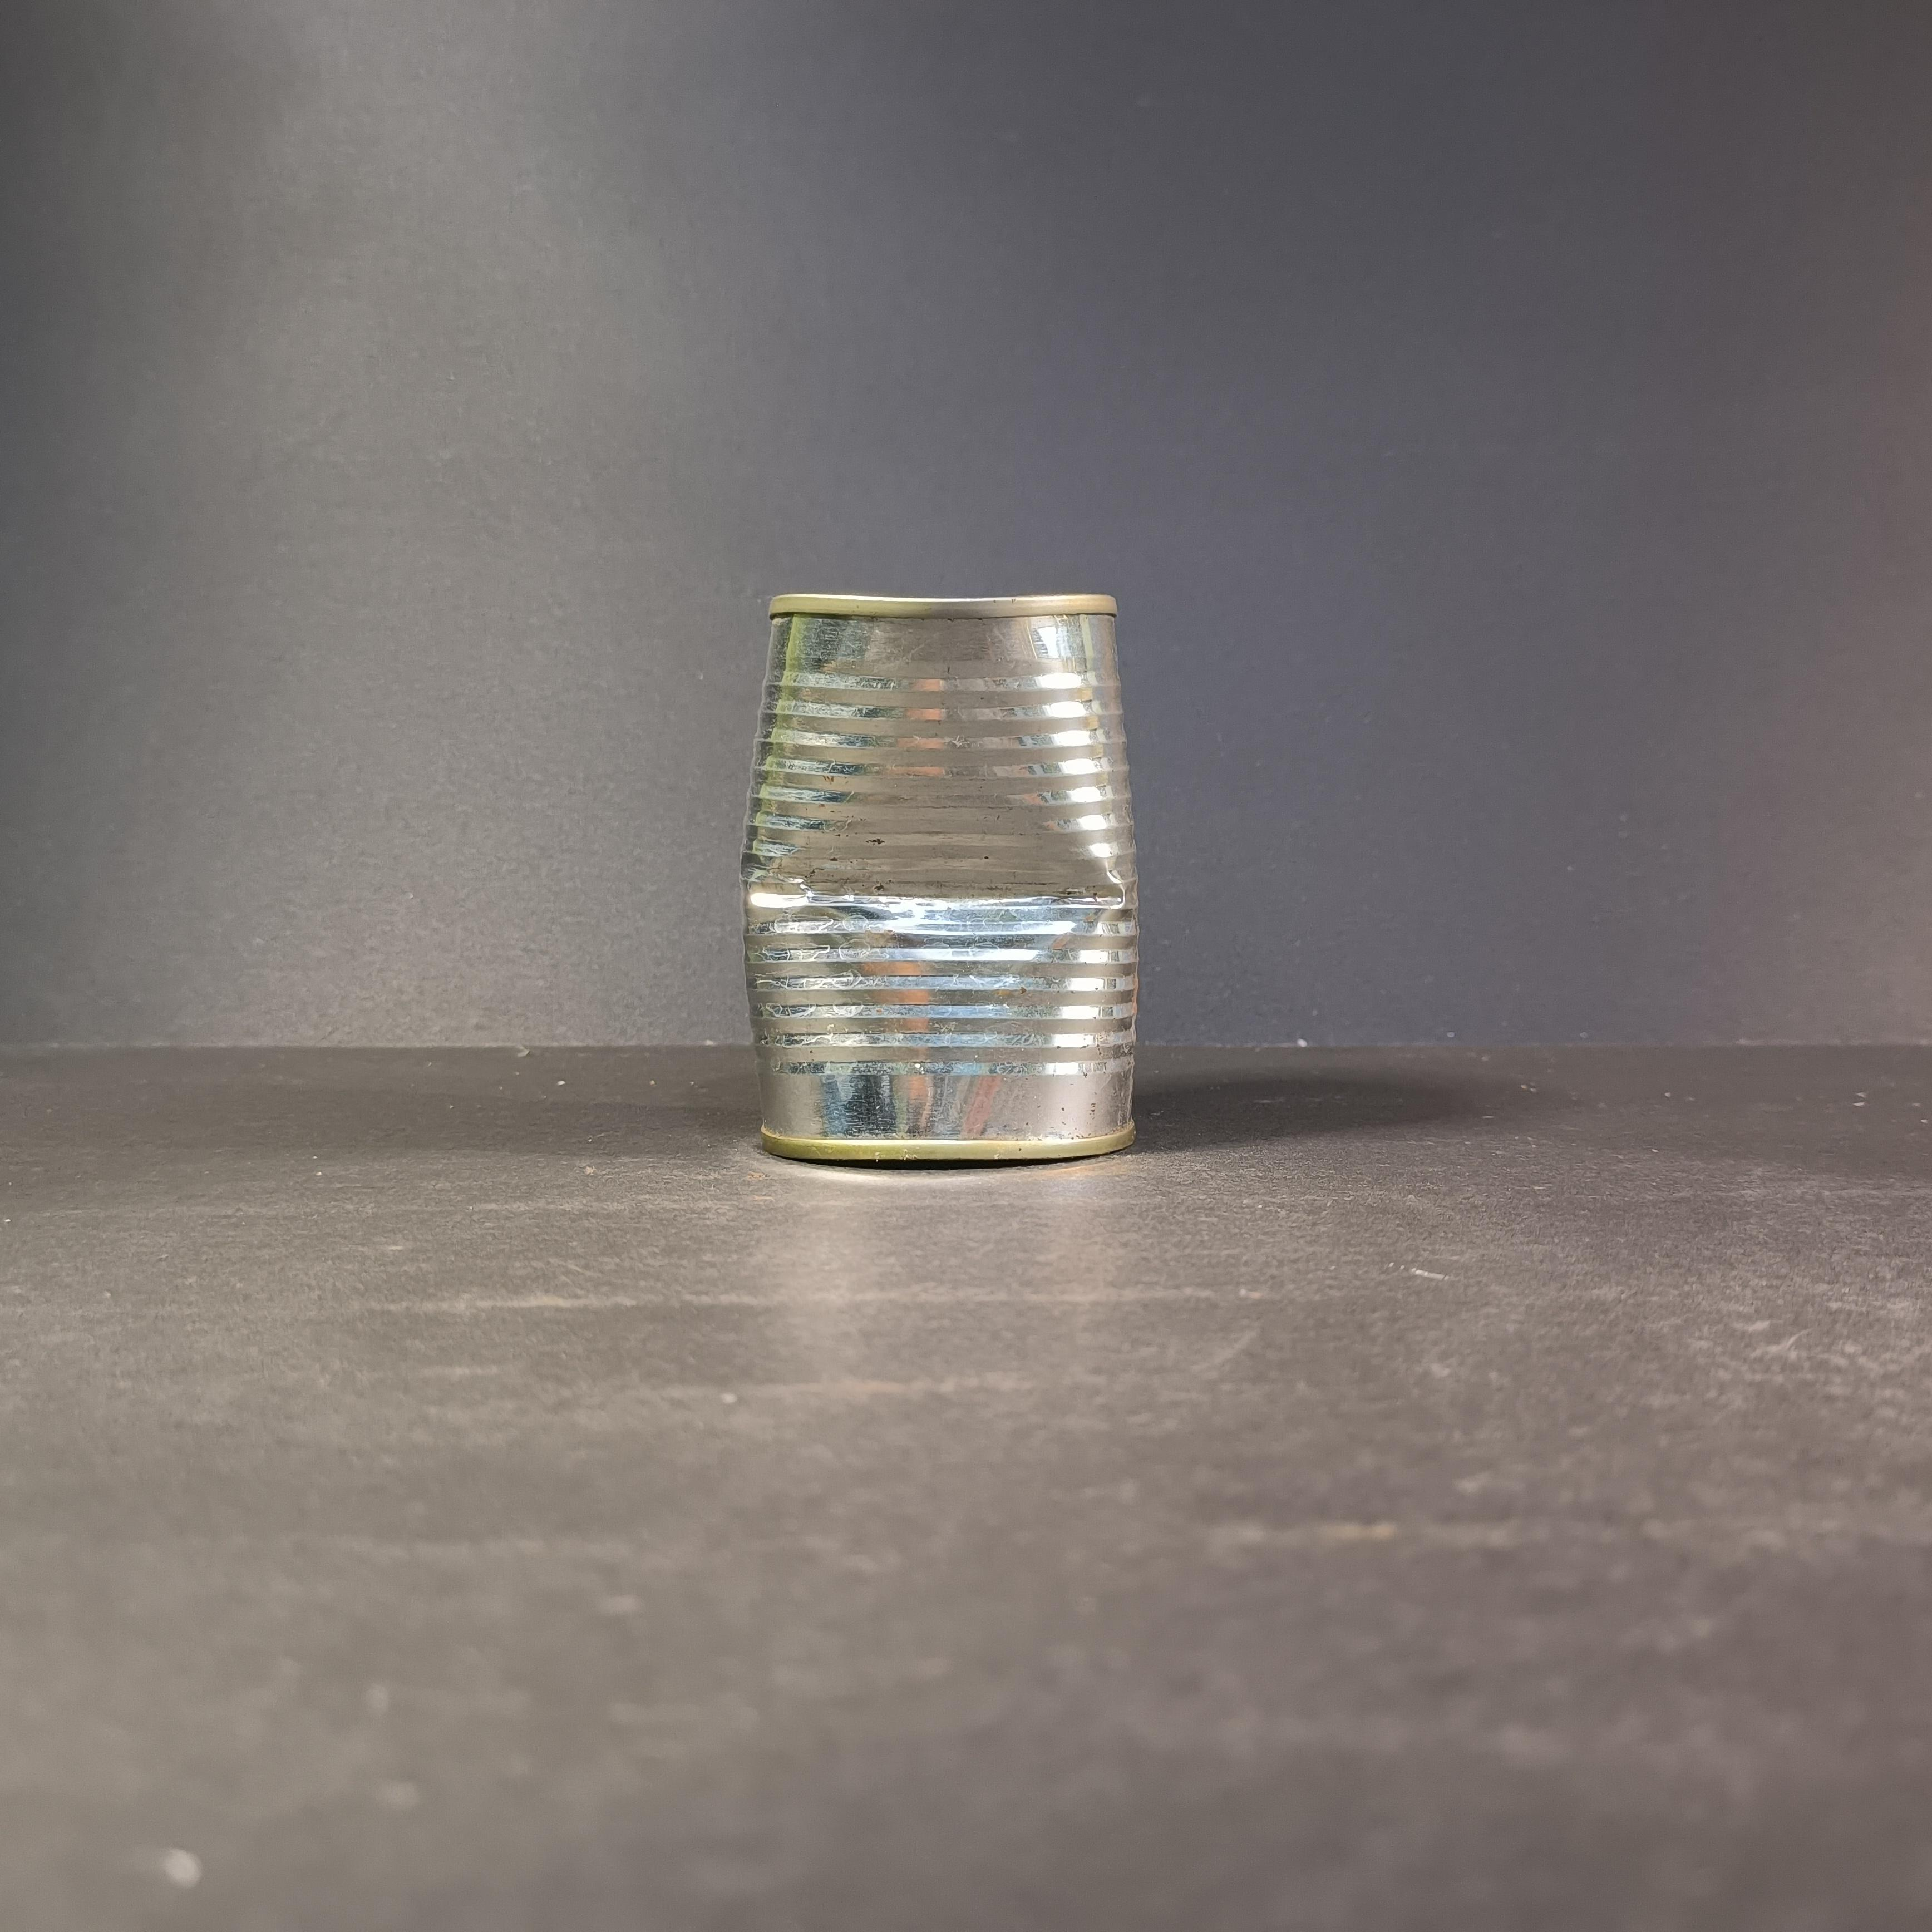Dented: (715, 559, 1169, 1188)
